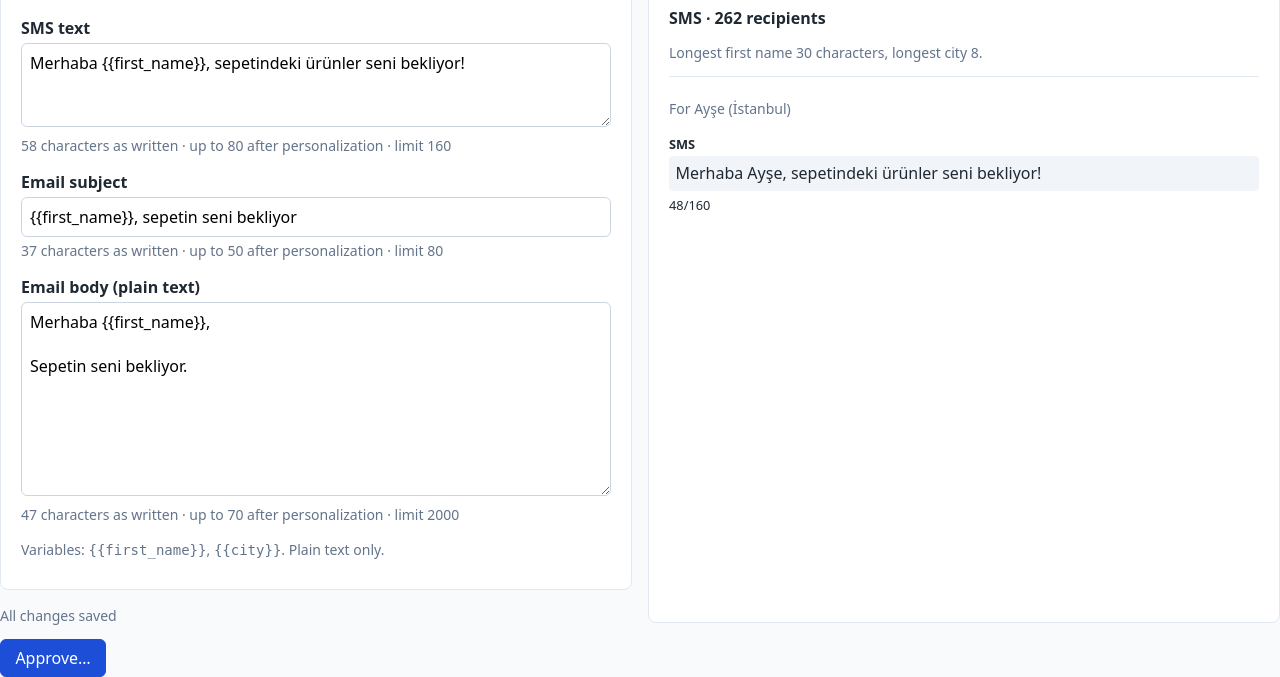
CampaignReviewView › shows approval errors from the API and allows a retry
(page scrolled)
Click the button with test id "approve" at (53, 658), box [0,639,106,676]
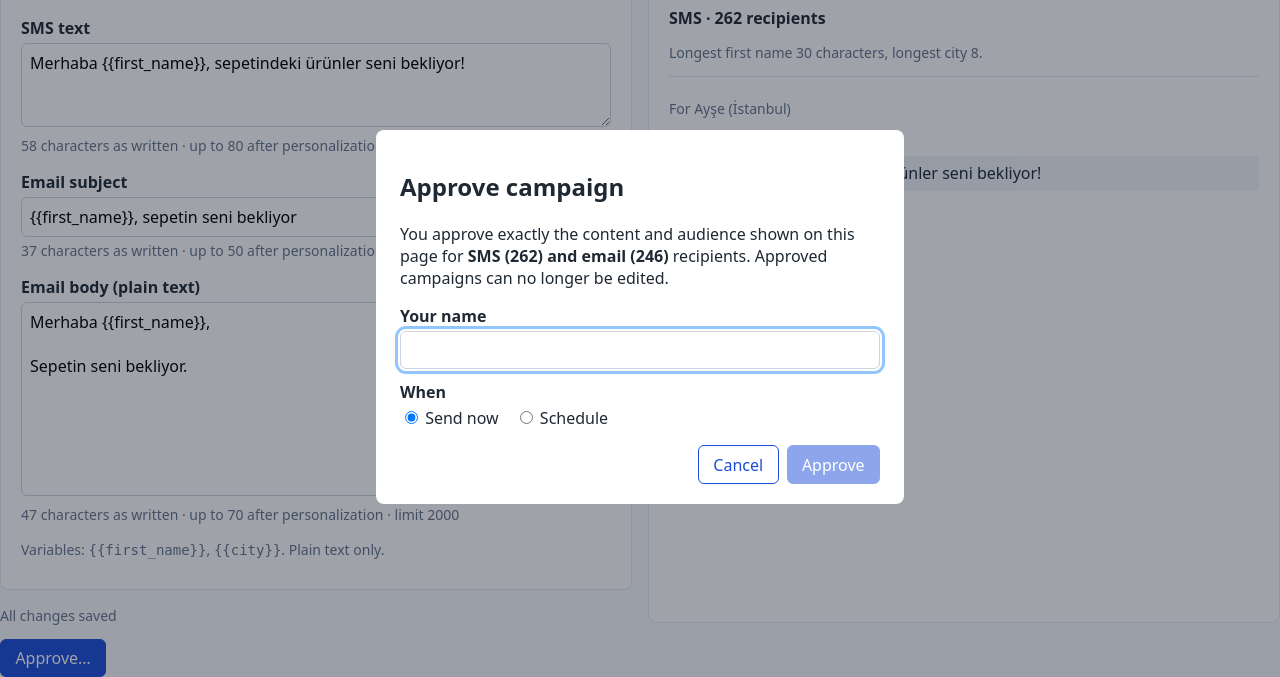
Type "Deniz" into the field with id "approver-name" at (640, 350), box [400,331,880,369]
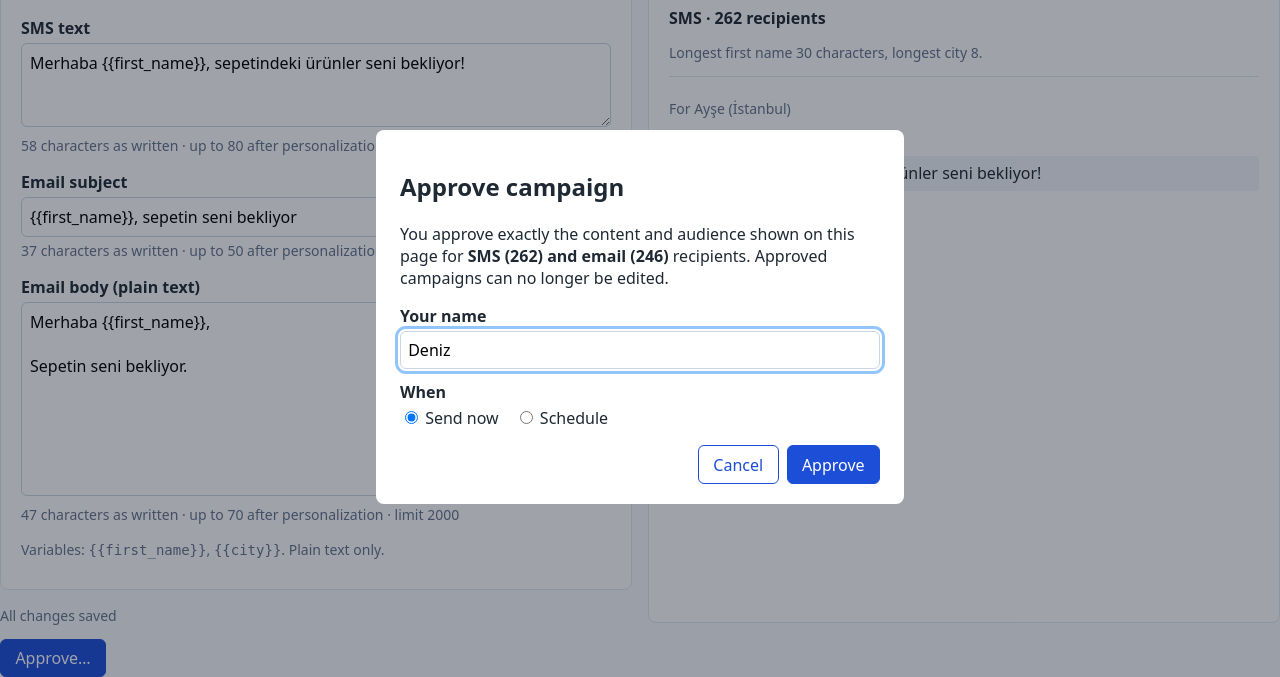
Submit the form, box [400,305,880,484]
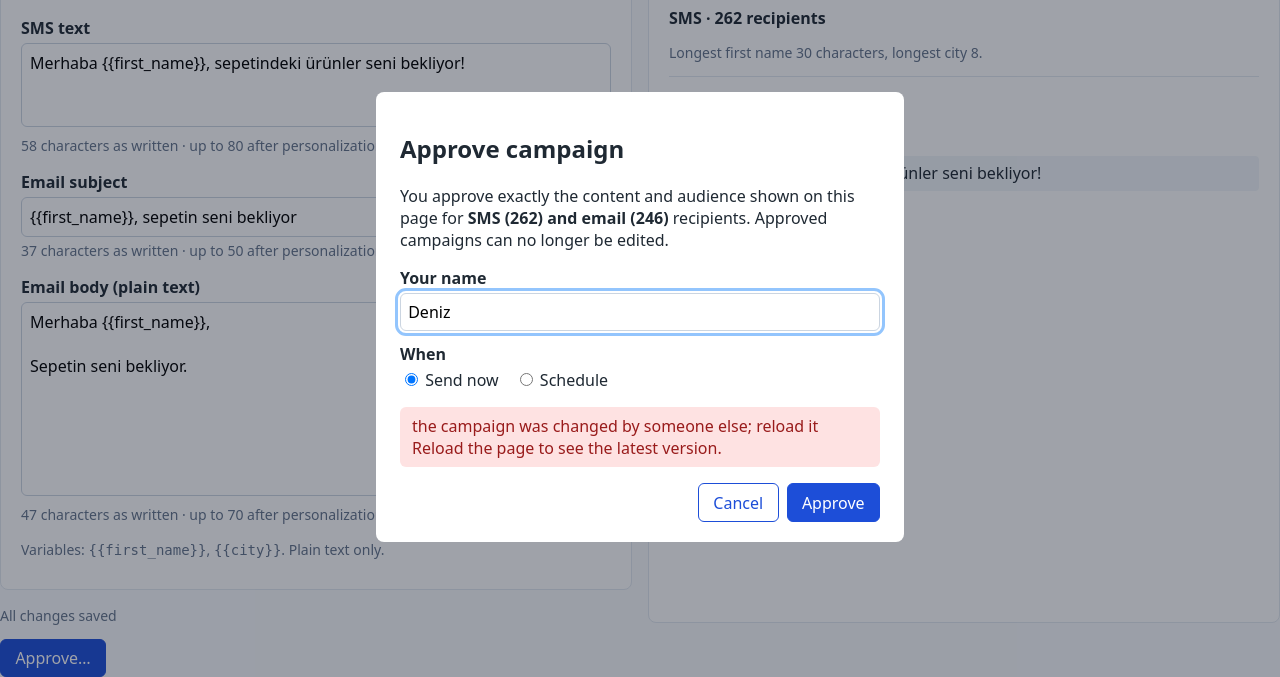
Expected: the button with test id "confirm-approve" is enabled, [786,483,880,522]
Expected: the message shows "Reload the page", [412,415,818,459]
